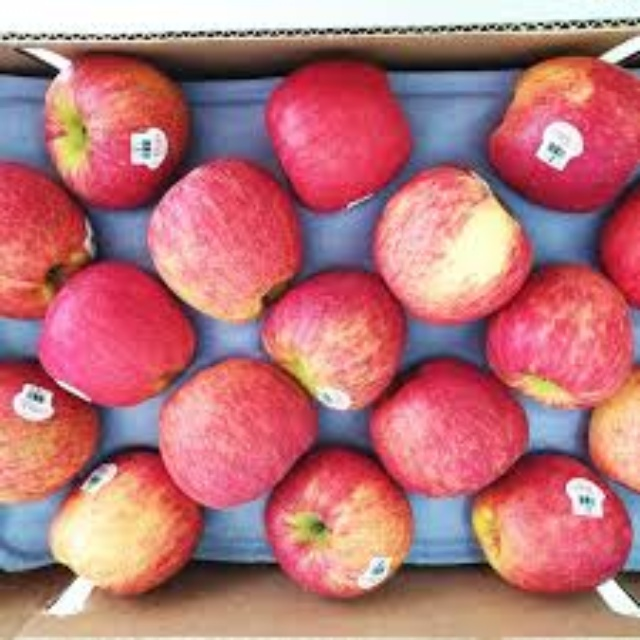tao: (250, 61, 412, 225), (138, 161, 302, 321), (254, 448, 417, 601), (488, 51, 640, 211), (42, 59, 193, 214), (376, 169, 523, 322), (37, 271, 198, 403), (54, 456, 211, 590), (370, 354, 526, 482), (169, 372, 306, 511), (263, 273, 412, 399), (498, 273, 640, 405), (480, 468, 629, 593), (4, 361, 101, 513), (2, 162, 89, 330), (581, 354, 640, 474), (595, 181, 640, 313)
